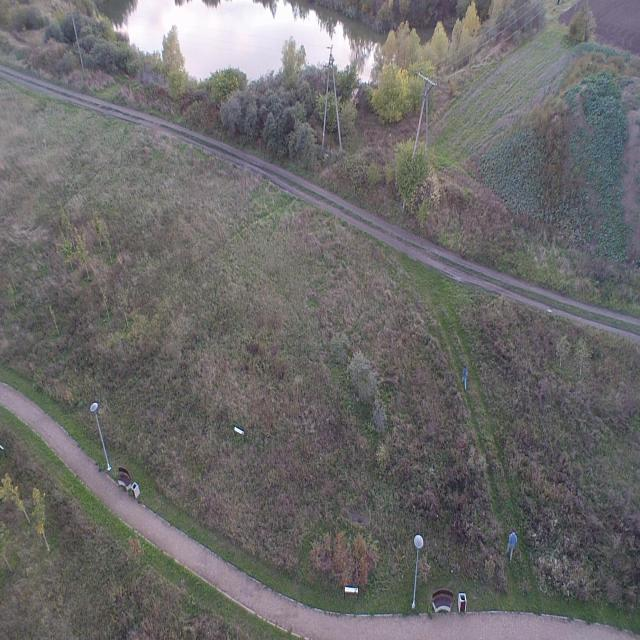p3rson: (505, 528, 517, 564), (462, 364, 468, 392), (556, 0, 560, 6)
